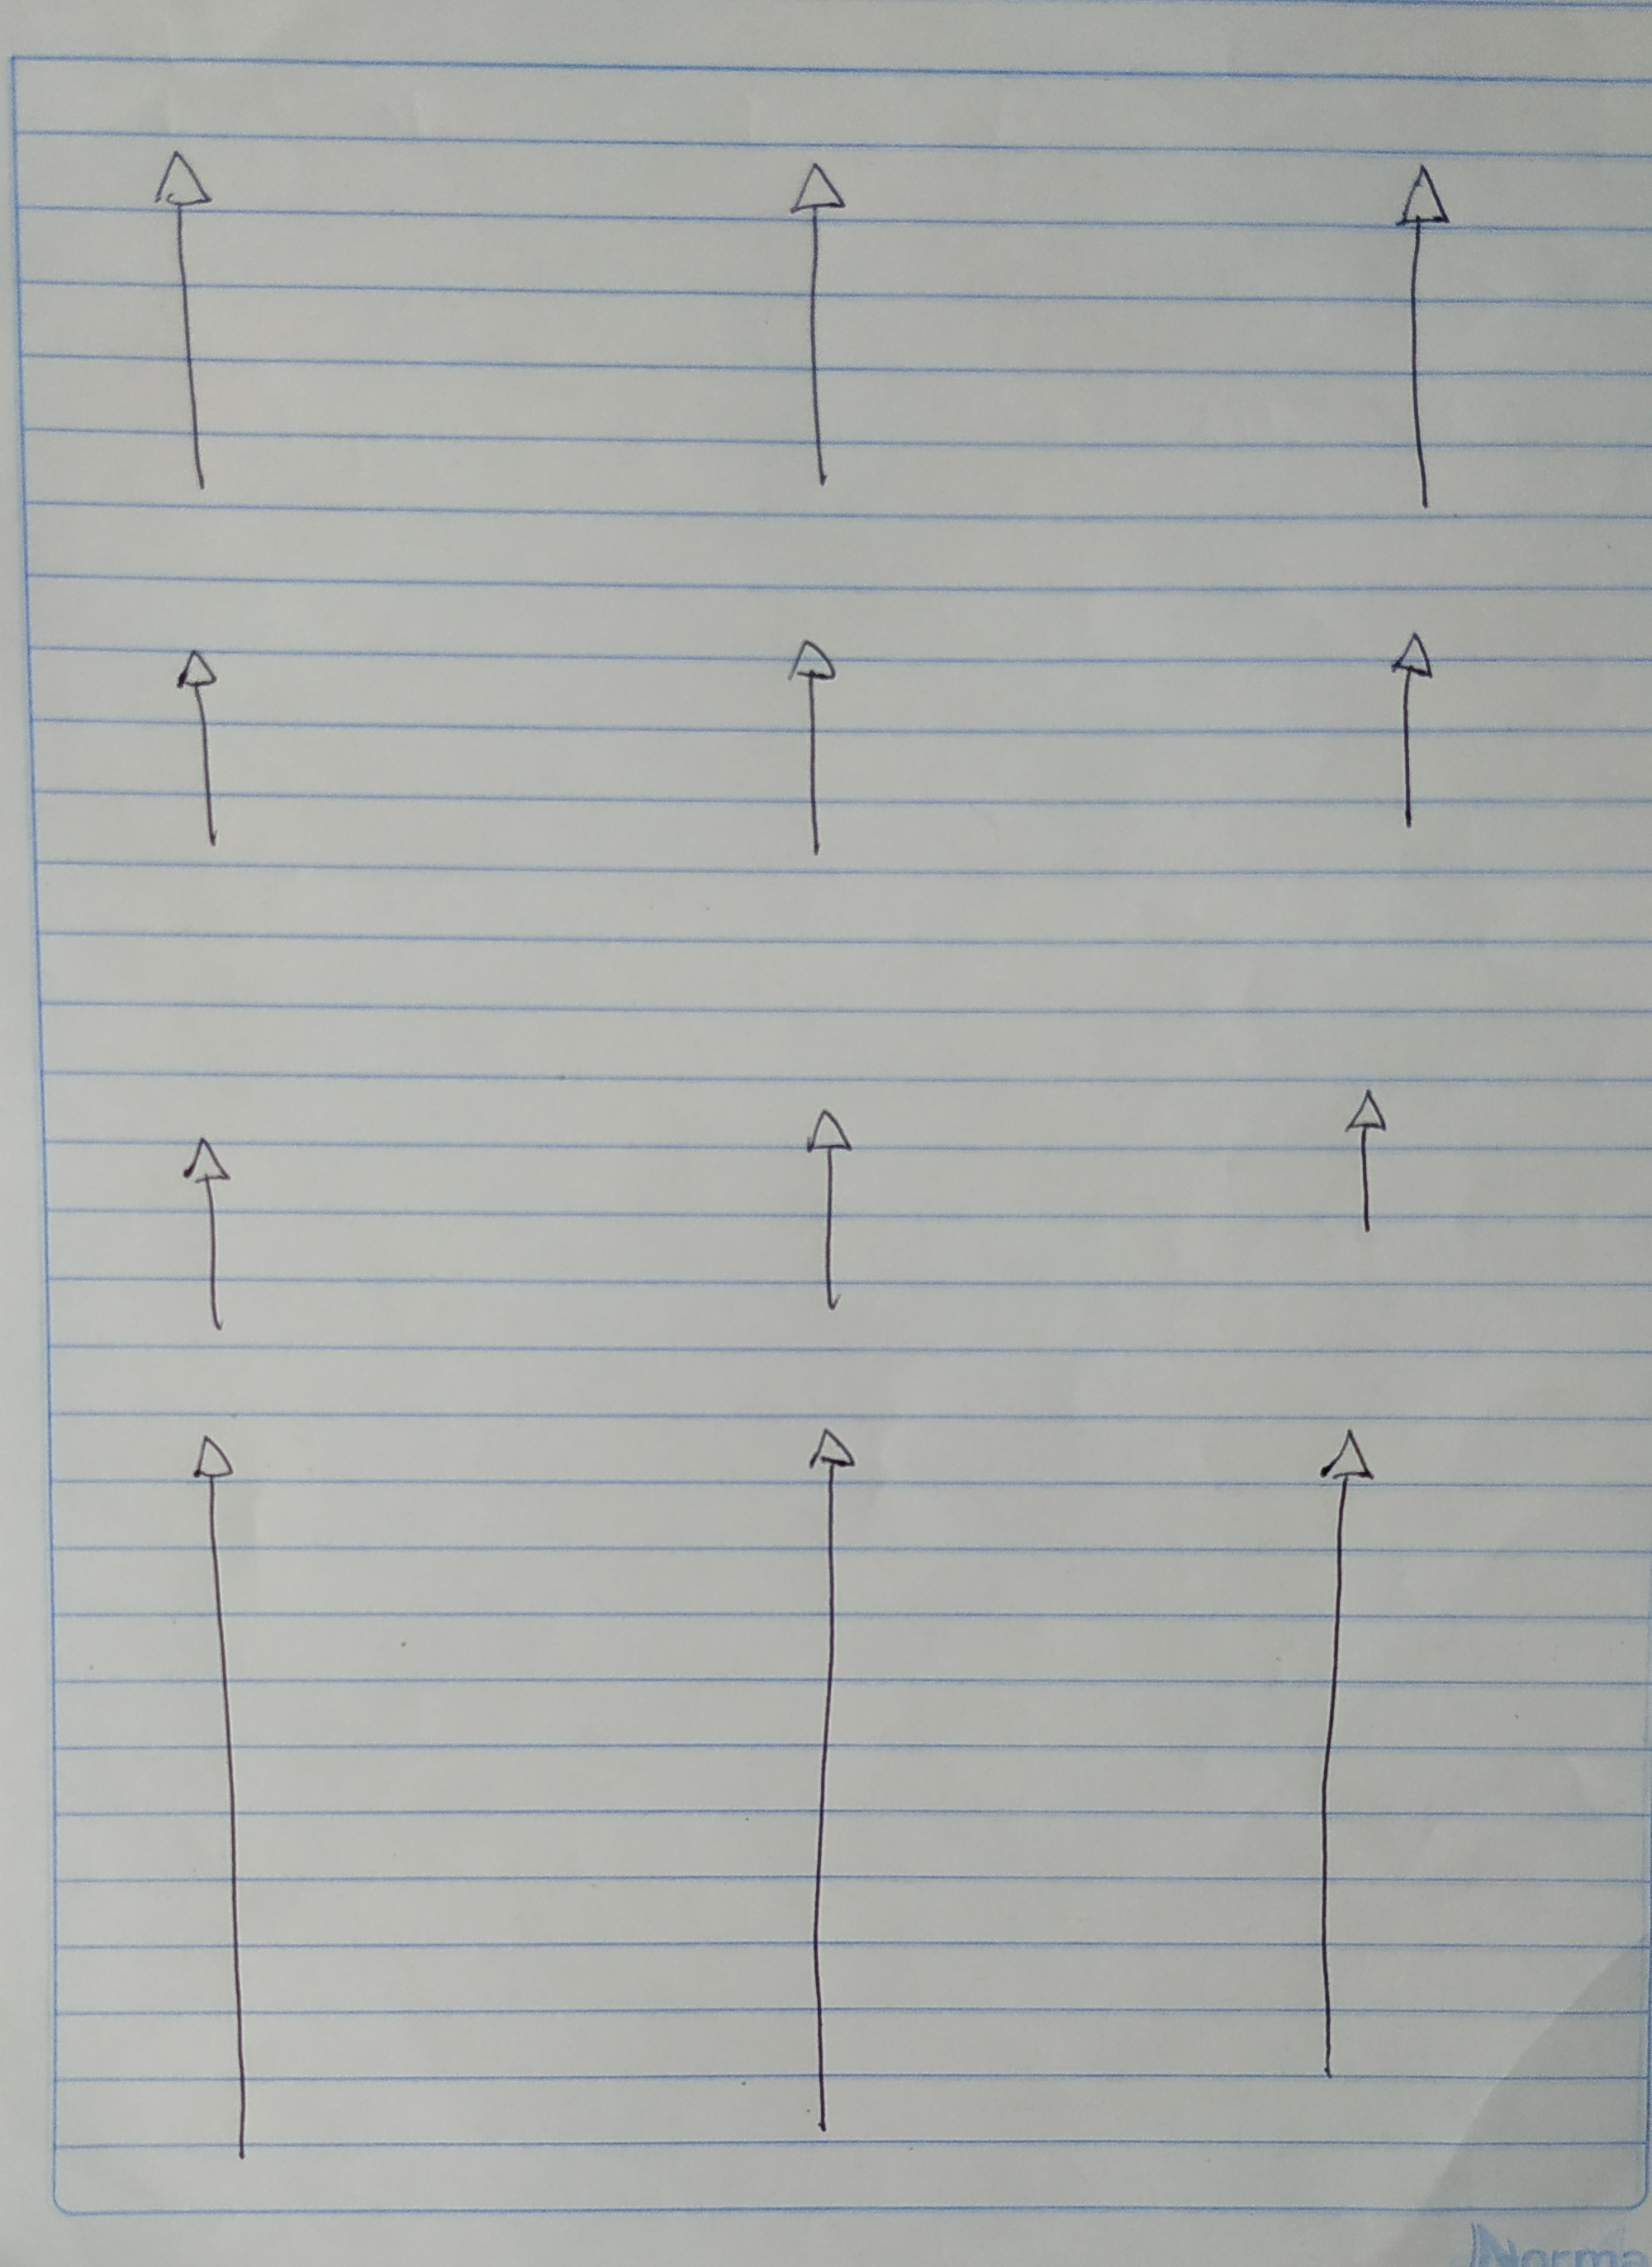arrow_line_up: (192, 1431, 257, 2161), (800, 1426, 860, 2133), (1314, 1429, 1378, 2086), (150, 153, 225, 498), (788, 158, 852, 510), (1393, 162, 1451, 516), (783, 635, 841, 862), (178, 1133, 239, 1341), (172, 651, 230, 850), (1388, 628, 1436, 836), (808, 1107, 853, 1315), (1348, 1086, 1392, 1237)
